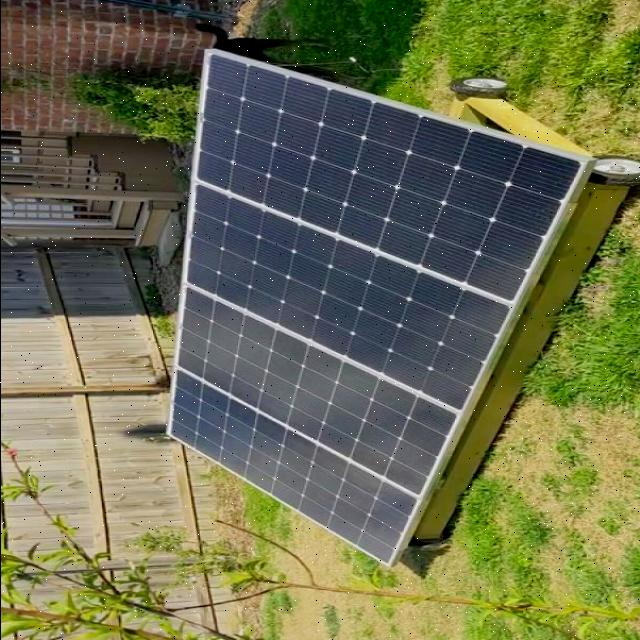Normal Solar Panel: (166, 51, 589, 566)
